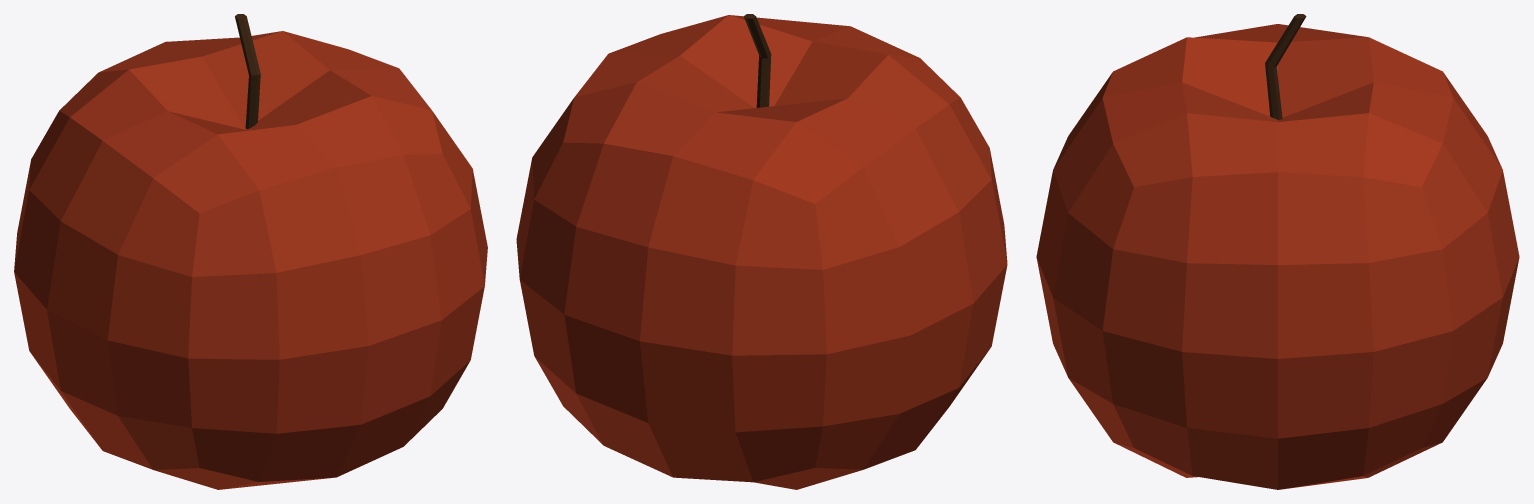
Rendered from apple.fbx.
3 renders of one model, left to right at view 1: azimuth 30°, elevation 25°; view 2: azimuth 150°, elevation 25°; view 3: azimuth 270°, elevation 25°, orthographic. The views are drawn at different scales.
Visible parts, largest first — view 1: Cube; view 2: Cube; view 3: Cube.
Part boxes in pixels (box(x1,y1,x2,y2)): Cube: box(14, 14, 487, 489); Cube: box(516, 14, 1007, 489); Cube: box(1036, 14, 1519, 489).
Size of the model in its own units: 168 by 163 by 168.
